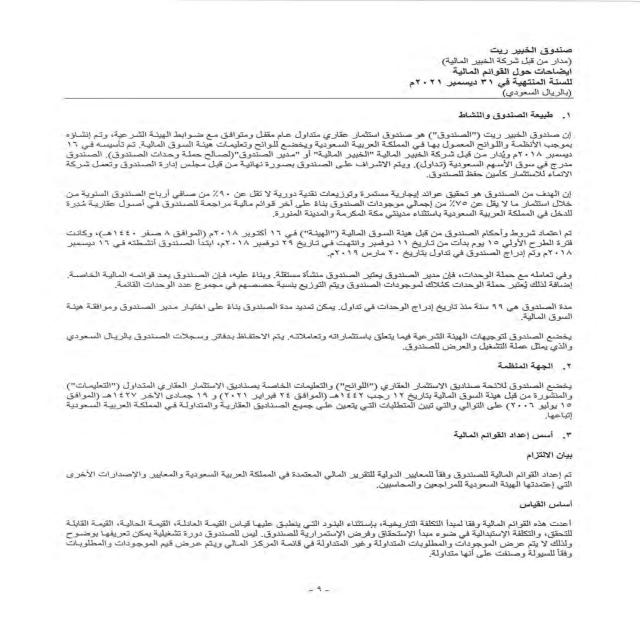notes: (438, 64, 578, 78)
text: (43, 106, 589, 578)
